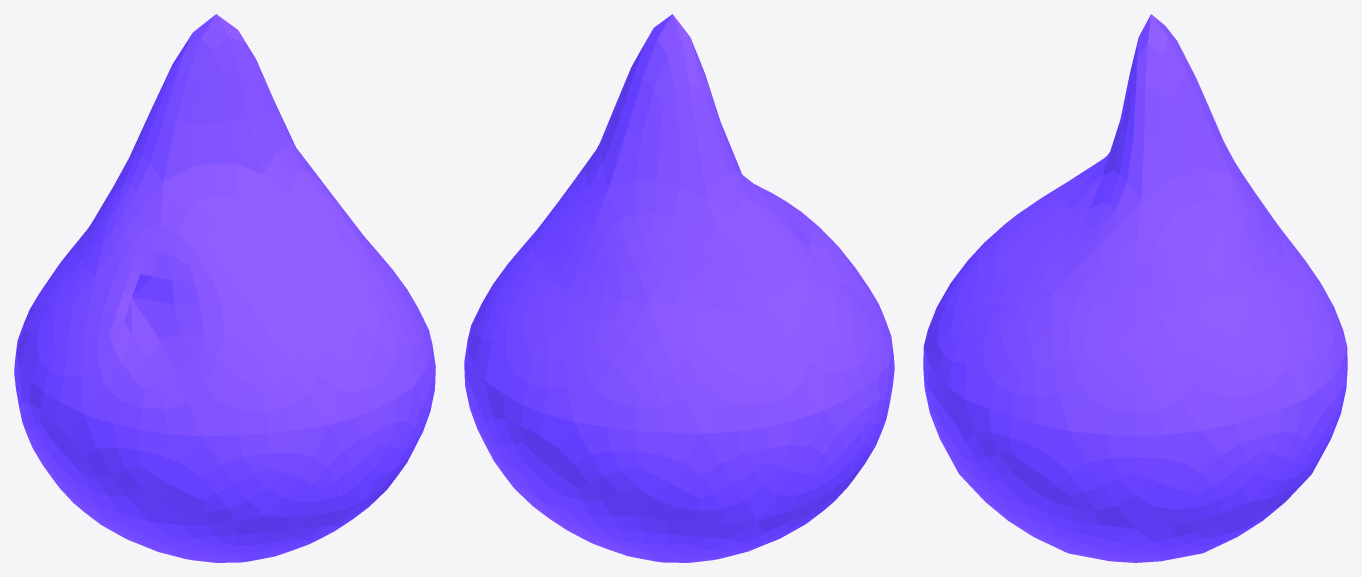
The model's file is drop.fbx.
The picture shows the model from 3 angles, left to right: view 1: azimuth 30°, elevation 25°; view 2: azimuth 150°, elevation 25°; view 3: azimuth 270°, elevation 25°; orthographic projection. The views are drawn at different scales.
Visible parts, largest first — view 1: Icosphere; view 2: Icosphere; view 3: Icosphere.
Boxes of the visible parts, left/top/right/bottom form: Icosphere: left=14, top=14, right=435, bottom=562; Icosphere: left=464, top=14, right=894, bottom=562; Icosphere: left=923, top=14, right=1347, bottom=562.
Size of the model in its own units: 183 by 251 by 182.
